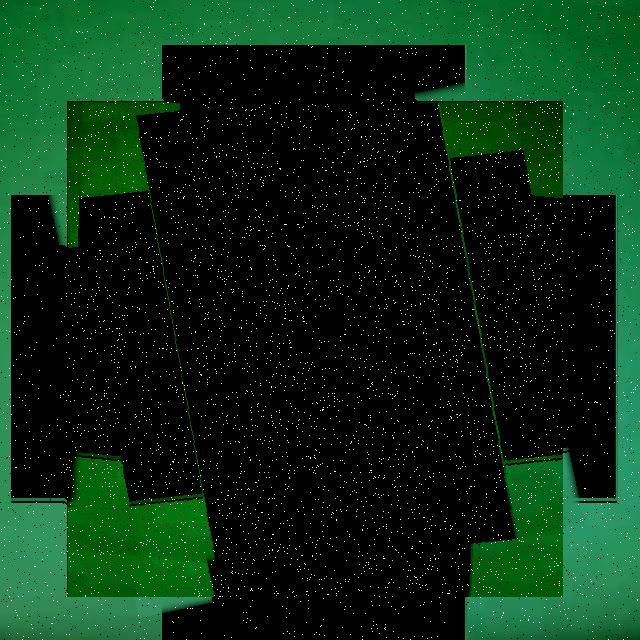lima puluh ribu rupiah: (65, 99, 562, 596)
